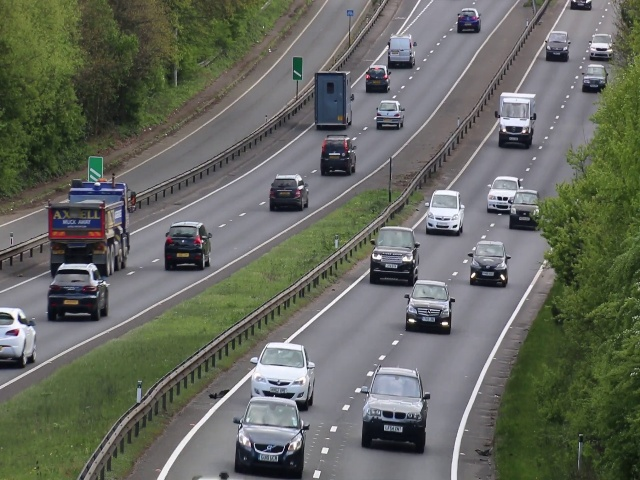car: (43, 180, 133, 276), (361, 363, 426, 453), (233, 397, 307, 476), (250, 340, 315, 407), (44, 264, 112, 321), (371, 224, 418, 285), (406, 278, 454, 336), (162, 221, 213, 272), (313, 70, 356, 130), (496, 90, 536, 148), (1, 308, 38, 368), (470, 238, 510, 290), (267, 172, 310, 212), (425, 191, 464, 234), (319, 134, 357, 177), (487, 171, 520, 213), (509, 187, 541, 229), (386, 33, 418, 71), (372, 97, 406, 130), (587, 28, 617, 60), (581, 61, 609, 95), (543, 28, 570, 60), (455, 5, 483, 35), (364, 65, 391, 94)
